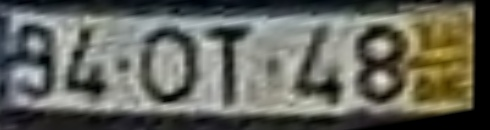4: (286, 23, 349, 109), (62, 26, 113, 104)
8: (349, 20, 416, 107)
9: (11, 20, 61, 102)
O: (136, 24, 205, 107)
T: (204, 24, 257, 111)
